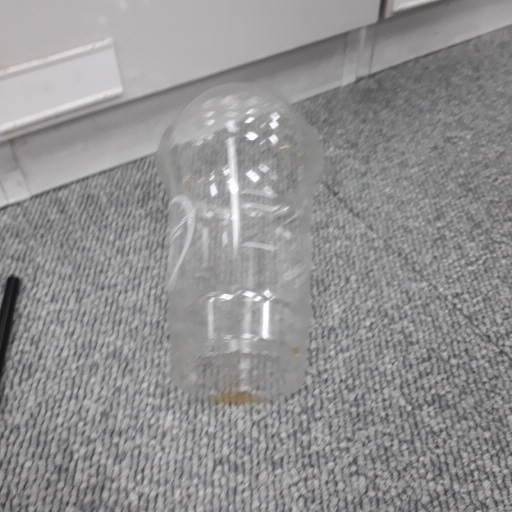Plastic_2: (153, 80, 324, 402)
